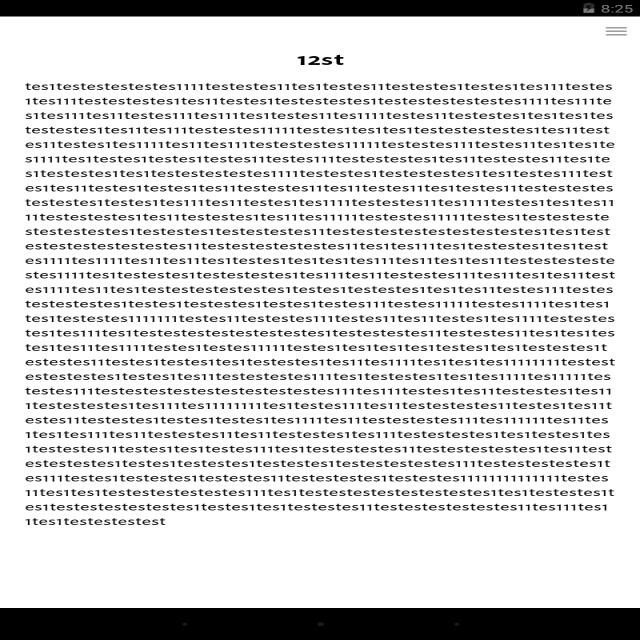ImageButton: (598, 23, 631, 39)
TextView: (284, 47, 347, 67)
